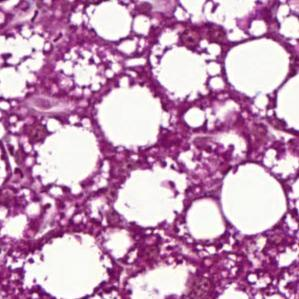steatosis: (222, 167, 291, 234)
